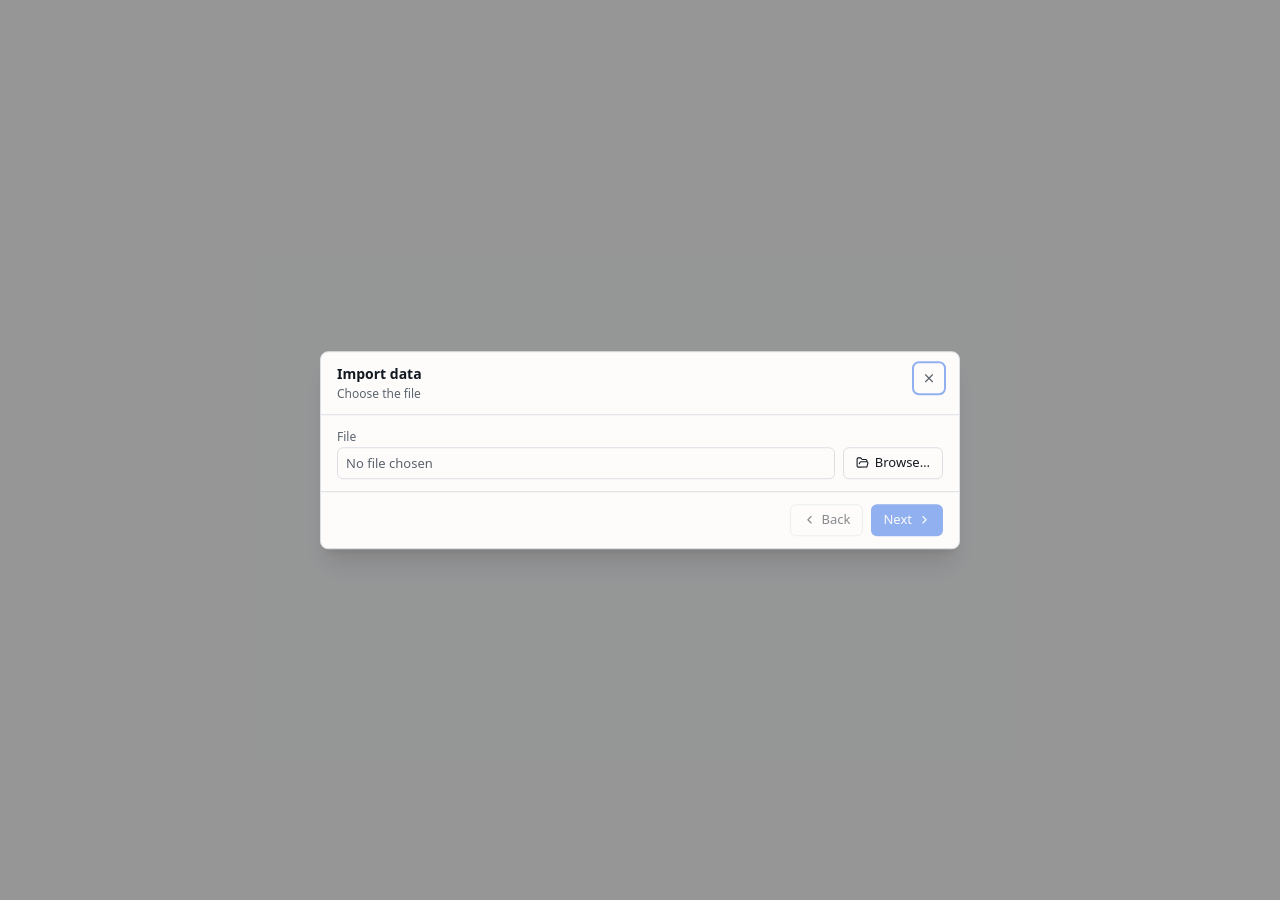
Test: ImportWizard › lists the statements of a SQL script and starts it right away
Later steps or results of the test are not shown.
Click the button "Browse…" at [893, 463], box [843, 447, 943, 479]
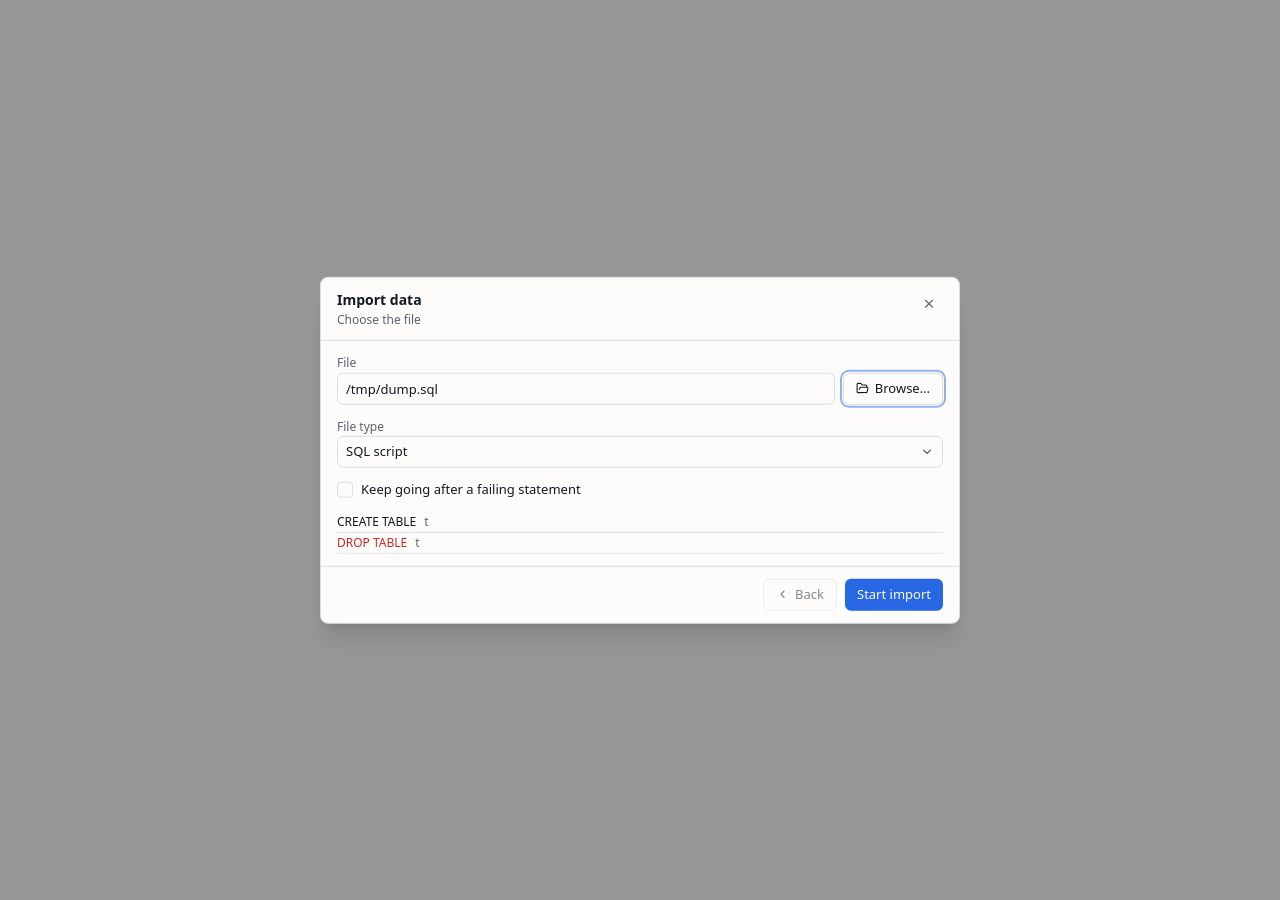
expect the field labelled "File" holds "/tmp/dump.sql": met, box [337, 372, 835, 404]
expect the list with test id "import-statements" shows "CREATE TABLE": met, box [337, 512, 416, 529]
expect the list with test id "import-statements" shows "DROP TABLE": met, box [337, 533, 407, 550]
